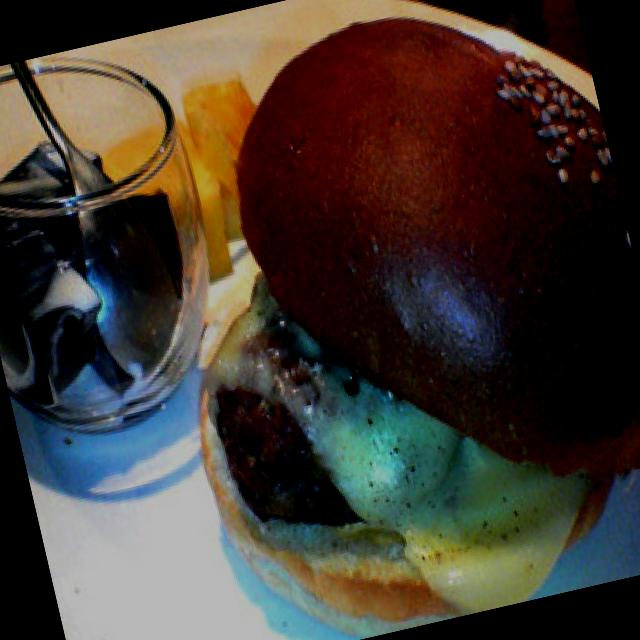Hamburger: (144, 0, 640, 640)
